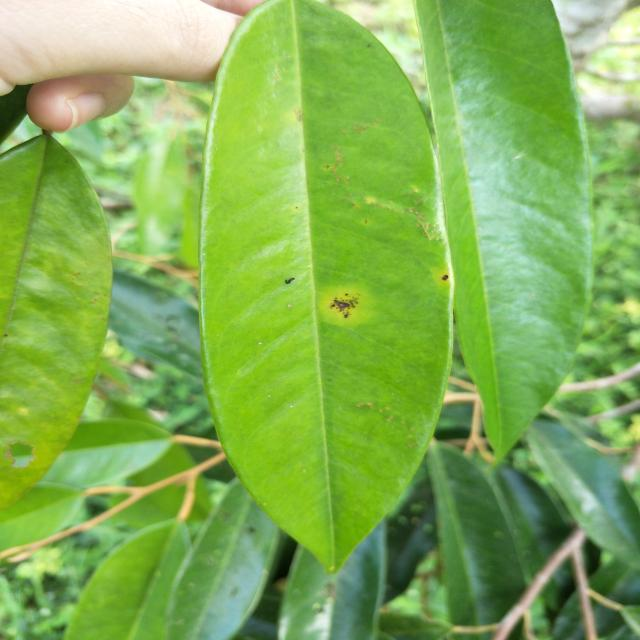Leaf Spot: (296, 272, 358, 321)
